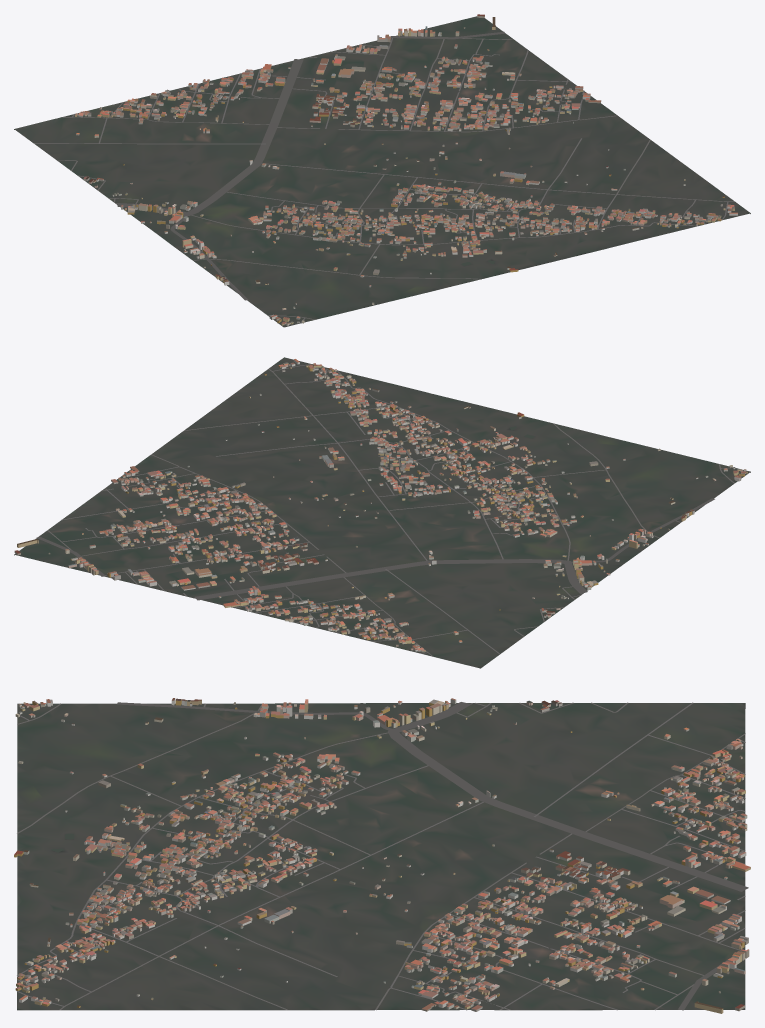
3 renders of one model, top to bottom at view 1: azimuth 30°, elevation 25°; view 2: azimuth 150°, elevation 25°; view 3: azimuth 270°, elevation 25°, orthographic. The views are drawn at different scales.
Visible parts, largest first — view 1: ground, buildings, roads; view 2: ground, buildings, roads; view 3: ground, buildings, roads.
Part boxes in pixels (x1,y1,x2,y2): ground: (14, 16, 750, 327); buildings: (75, 14, 737, 325); roads: (33, 31, 735, 323); ground: (14, 357, 750, 668); buildings: (14, 359, 747, 652); roads: (36, 364, 734, 656); ground: (17, 703, 745, 1010); buildings: (14, 698, 750, 1013); roads: (17, 702, 748, 1010).
Bounding box in the file's own units: 1422 × 24.93 × 1419.
